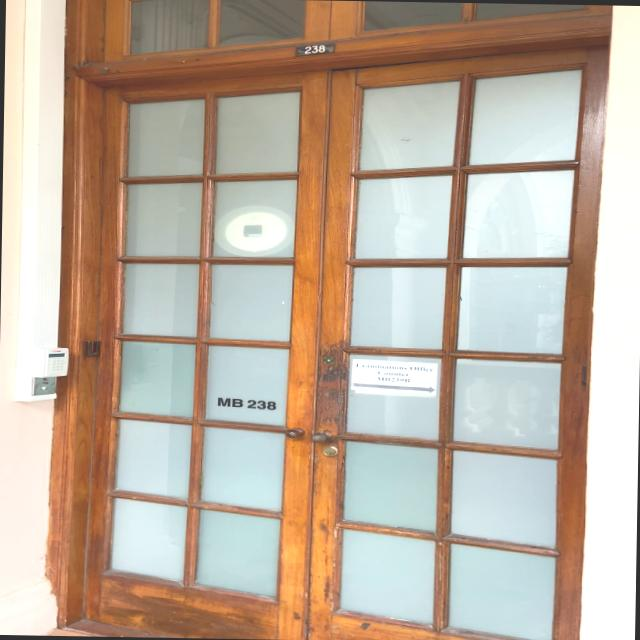room238: (297, 41, 333, 58)
